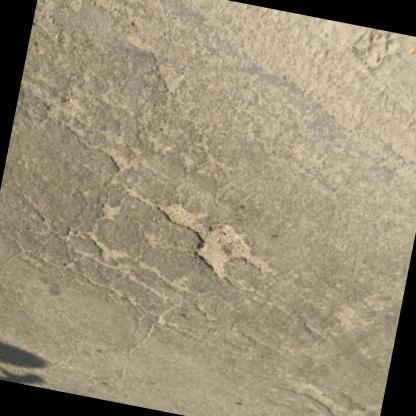pothole: (157, 200, 278, 284)
